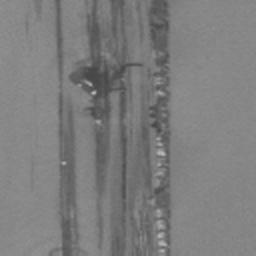Slag inclusion: (52, 0, 174, 256)
